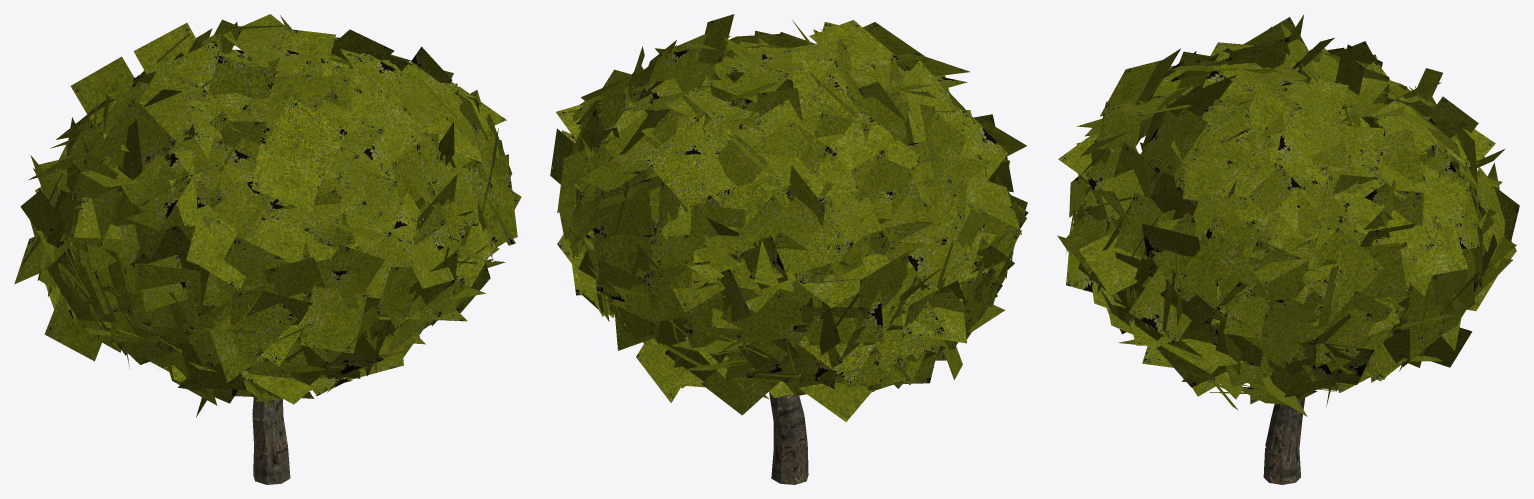
File: tree_broadleaf_02.fbx
The picture shows the model from 3 angles, left to right: view 1: azimuth 30°, elevation 25°; view 2: azimuth 150°, elevation 25°; view 3: azimuth 270°, elevation 25°; orthographic projection. The views are drawn at different scales.
Parts seen in each view (by area): view 1: tree_broadleaf_02_LOD0; view 2: tree_broadleaf_02_LOD0; view 3: tree_broadleaf_02_LOD0.
Part boxes in pixels (<box>): tree_broadleaf_02_LOD0: <box>14,14,521,484</box>; tree_broadleaf_02_LOD0: <box>550,14,1028,484</box>; tree_broadleaf_02_LOD0: <box>1057,15,1519,484</box>.
Size of what is drawn, in the model's own units: 11.66 by 11.01 by 10.82.
